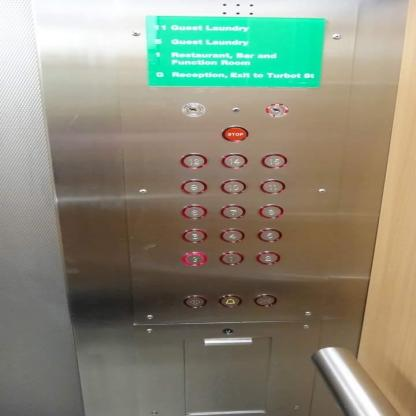1: (218, 251, 244, 267)
10: (219, 178, 247, 194)
11: (259, 178, 286, 195)
12: (178, 152, 209, 169)
14: (218, 152, 251, 169)
15: (258, 152, 290, 169)
2: (254, 251, 283, 265)
3: (181, 228, 207, 243)
4: (219, 228, 246, 243)
5: (256, 228, 282, 242)
6: (180, 204, 207, 220)
7: (219, 202, 247, 219)
8: (257, 204, 286, 219)
9: (178, 178, 208, 194)
G: (179, 252, 208, 266)
alarm: (218, 294, 242, 308)
close: (251, 293, 278, 307)
keyhole: (264, 102, 290, 118), (180, 102, 205, 118)
open: (180, 294, 208, 309)
text_stop: (221, 125, 252, 142)
